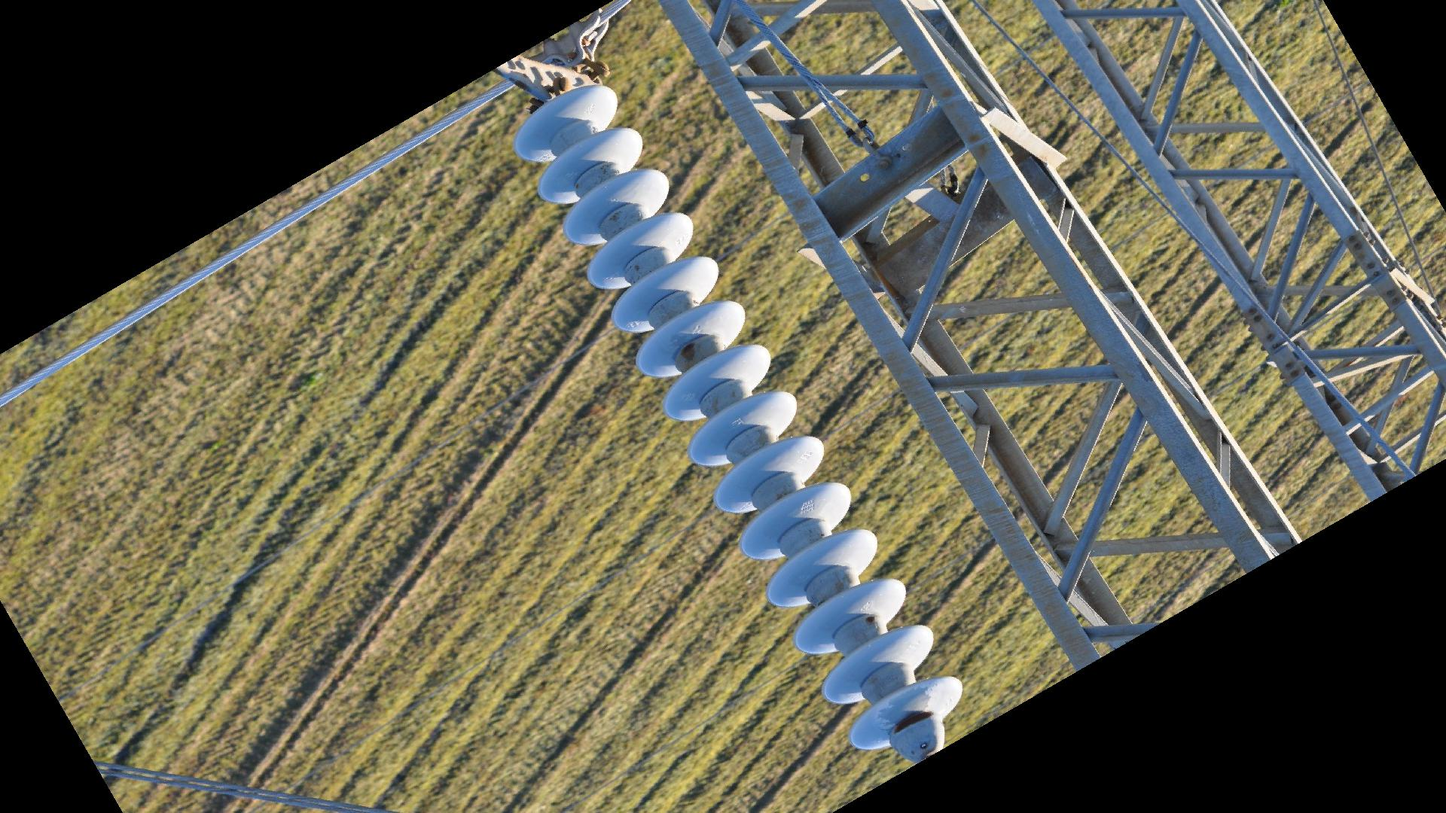insulator: (505, 75, 965, 755)
insulator_flashover: (877, 684, 934, 729)
